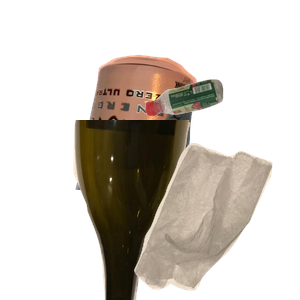glass: (71, 120, 254, 300)
metal: (73, 52, 263, 232)
plastic: (142, 77, 300, 186)
trash: (132, 140, 300, 300)
